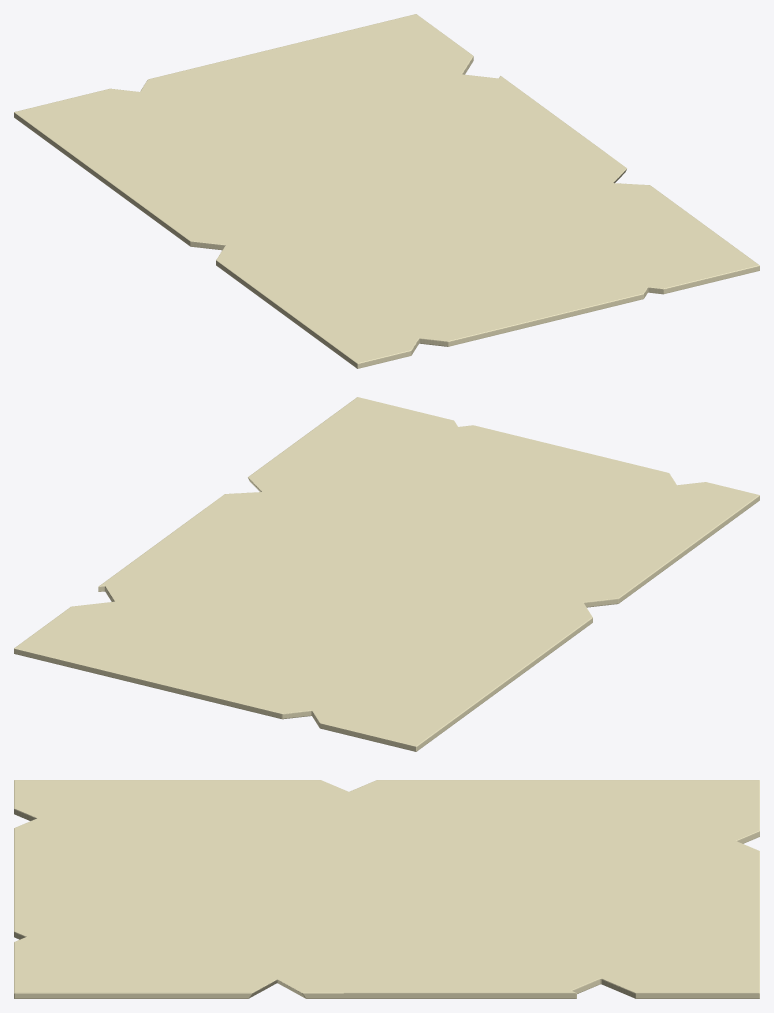
3 renders of one model, top to bottom at view 1: azimuth 30°, elevation 25°; view 2: azimuth 150°, elevation 25°; view 3: azimuth 270°, elevation 25°, orthographic. The views are drawn at different scales.
Visible parts, largest first — view 1: 304131_23_06_21_03_06_12_1; view 2: 304131_23_06_21_03_06_12_1; view 3: 304131_23_06_21_03_06_12_1.
Part boxes in pixels (x1,y1,x2,y2): 304131_23_06_21_03_06_12_1: (14, 14, 759, 368); 304131_23_06_21_03_06_12_1: (14, 397, 759, 751); 304131_23_06_21_03_06_12_1: (14, 780, 759, 998).
Size of the model in its own units: 5.69 by 0.0767 by 8.41.
Materials: 1 (1 with a texture image).
